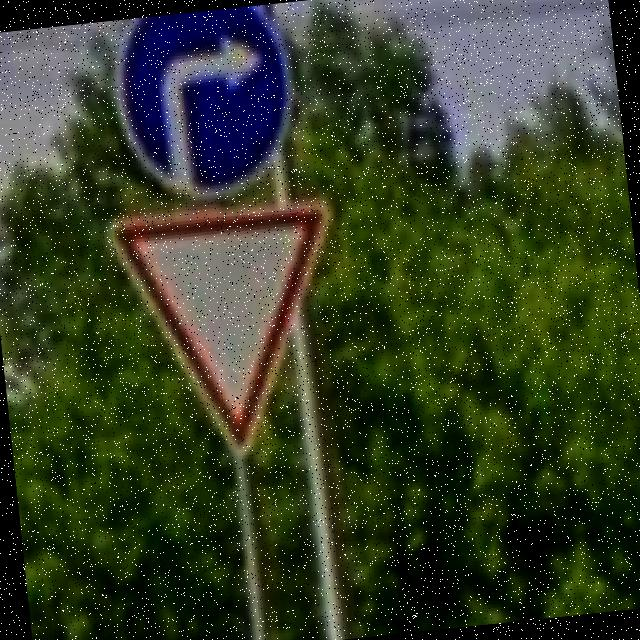Ustap pierwszenstwa: (104, 192, 358, 473)
